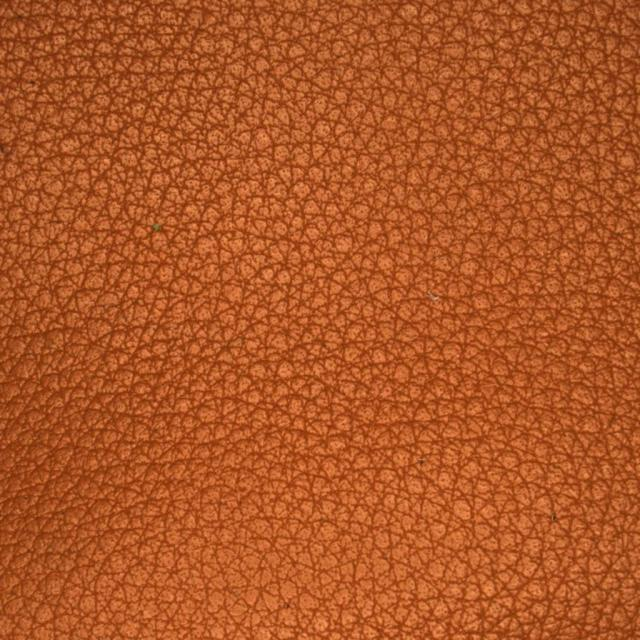Hole: (100, 158, 227, 304)
